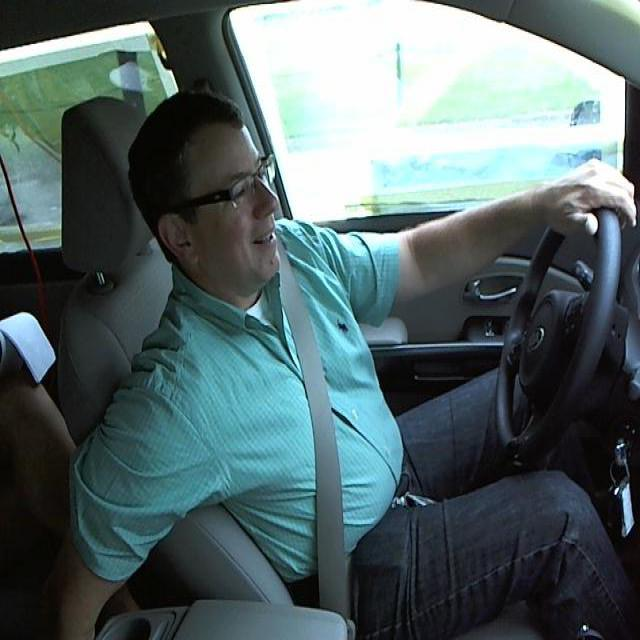seatbelt: (274, 267, 358, 601)
